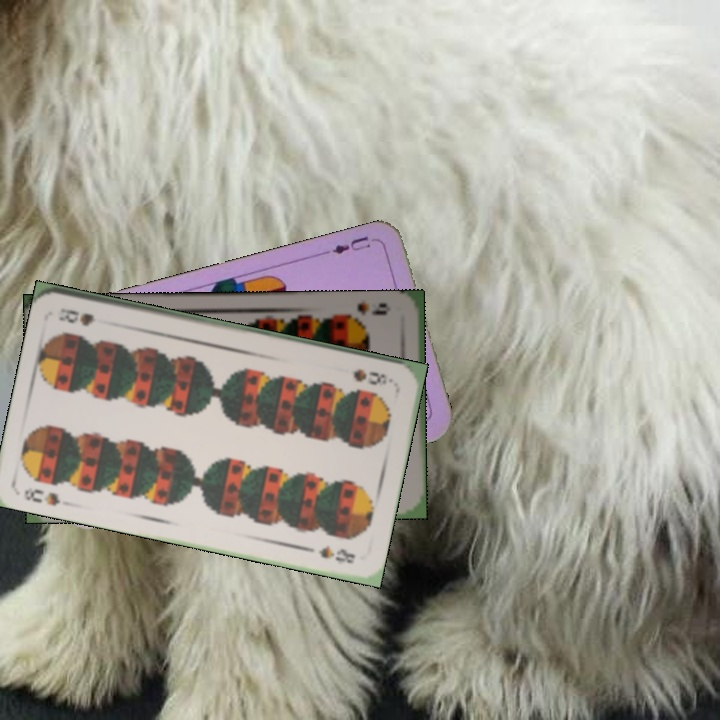EU: (321, 232, 373, 257)
S8: (349, 365, 396, 389), (20, 485, 63, 509)
S9: (339, 298, 390, 325)
